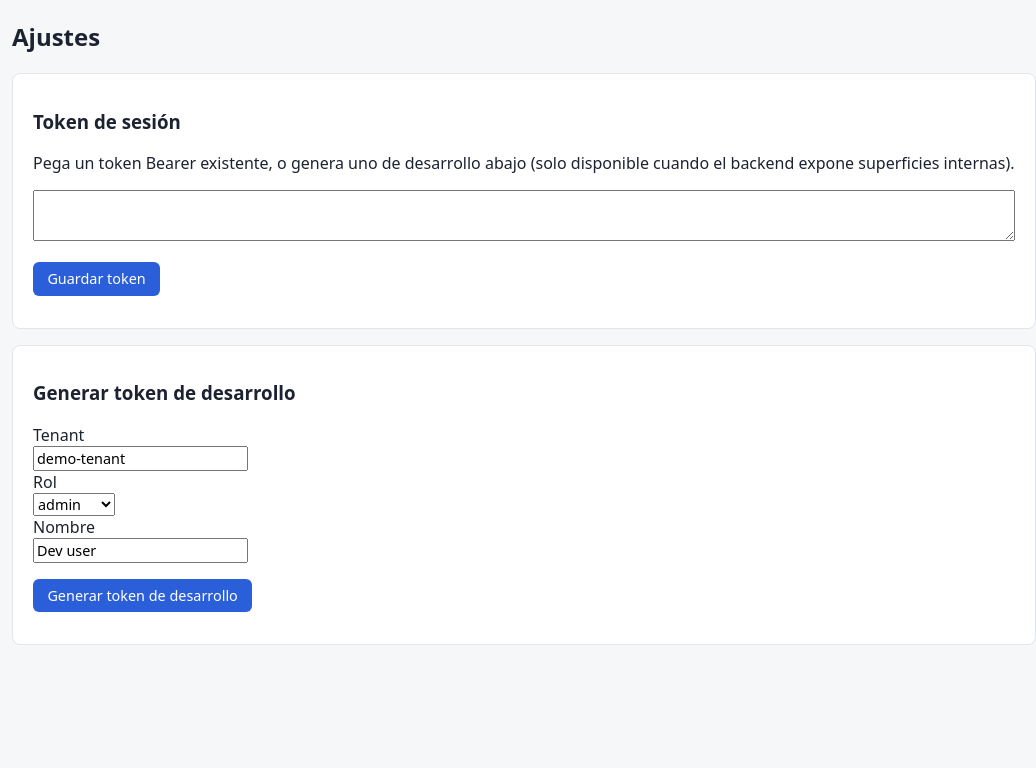
Test: Settings › shows a graceful message when the dev-token bootstrap is not mounted
This screenshot has width=1036, height=768.
Click the button "Generar token de desarrollo" at (143, 596), box [33,579,252,612]
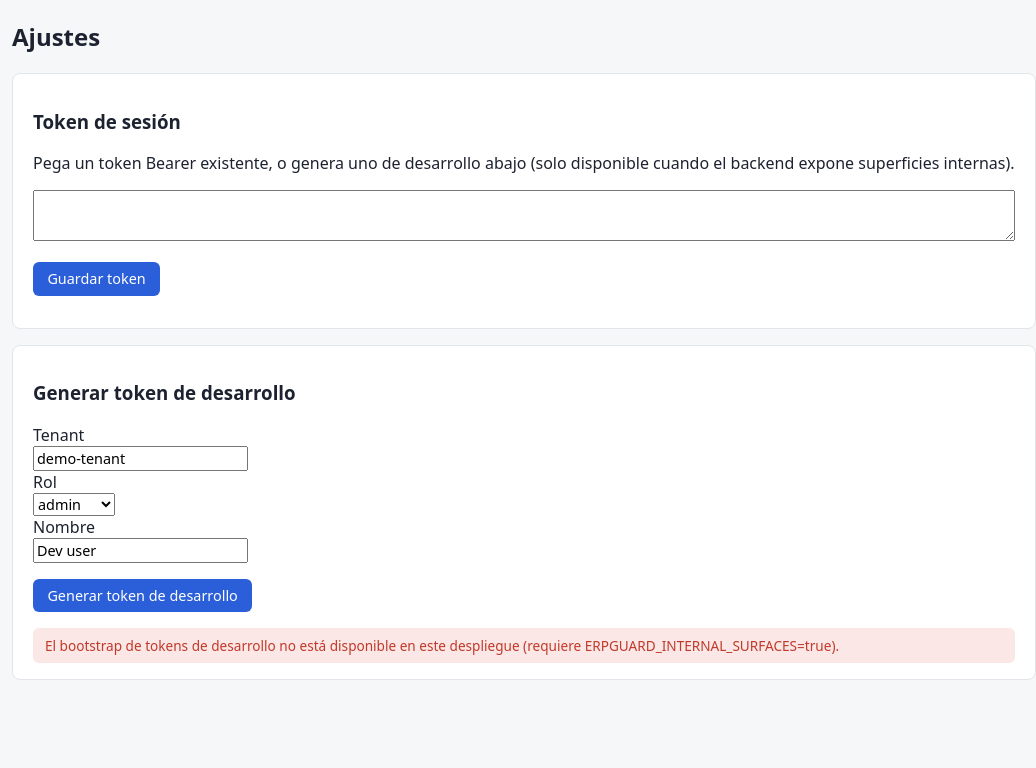
Check: the message shows "no está disponible", box [45,636,839,655]
